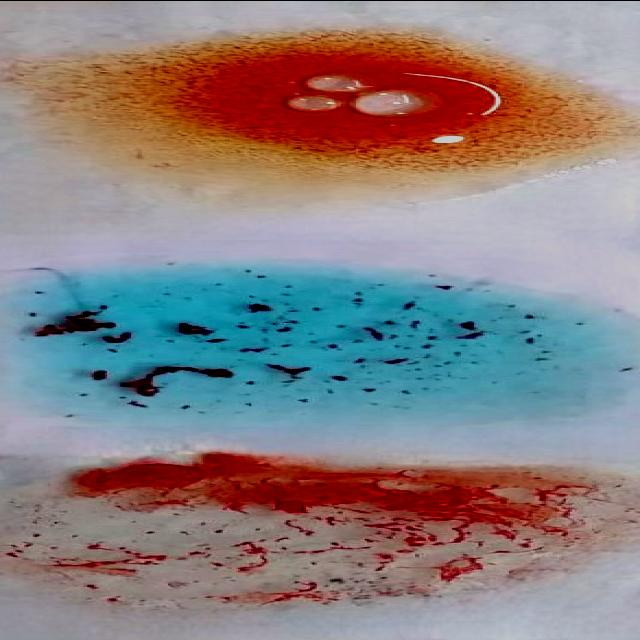A: (0, 267, 627, 430)
B: (20, 38, 640, 177)
D: (18, 458, 624, 602)
